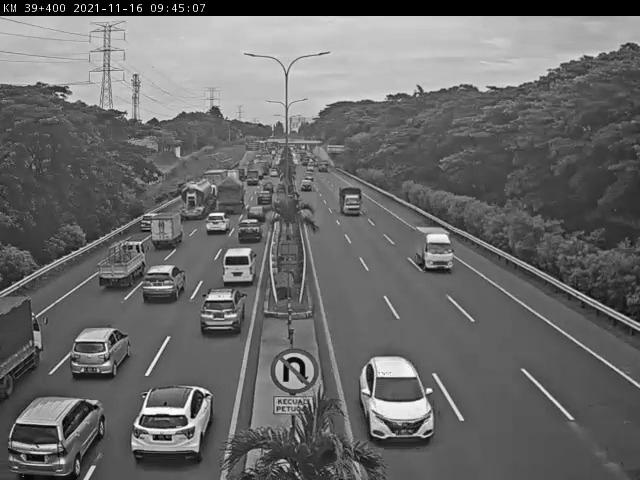car: (7, 397, 105, 476), (358, 356, 435, 443), (131, 386, 215, 462), (68, 327, 132, 378), (200, 285, 245, 335), (142, 265, 185, 301), (220, 251, 256, 286), (238, 218, 264, 240), (206, 212, 230, 235), (248, 205, 270, 223), (137, 218, 154, 235)
mid truck: (212, 179, 245, 219)
small truck: (97, 240, 148, 288), (413, 225, 454, 272), (152, 213, 183, 251)
truck-m-: (339, 187, 363, 216)
truck-xl-: (176, 179, 215, 219)
